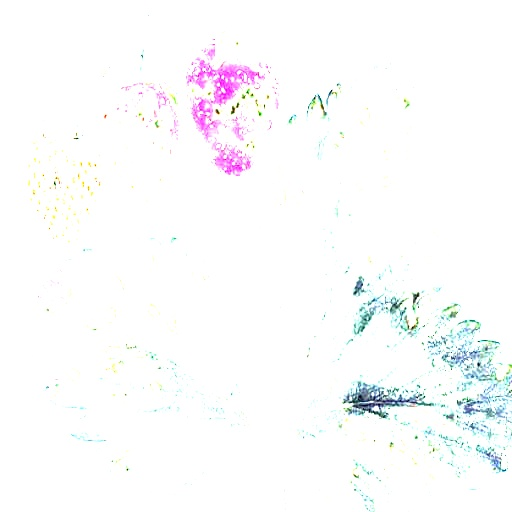Anthracnose Fruit Rot: (185, 74, 278, 163), (125, 101, 173, 145), (42, 157, 79, 201)
Leaf Spot: (256, 61, 463, 407), (21, 235, 252, 499), (294, 293, 511, 511)
